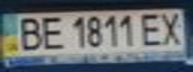1: (118, 11, 139, 47), (66, 14, 87, 48), (103, 11, 121, 47)
8: (84, 12, 106, 48)
B: (12, 15, 48, 52)
E: (36, 13, 66, 51), (136, 10, 166, 47)
X: (157, 10, 190, 46)
